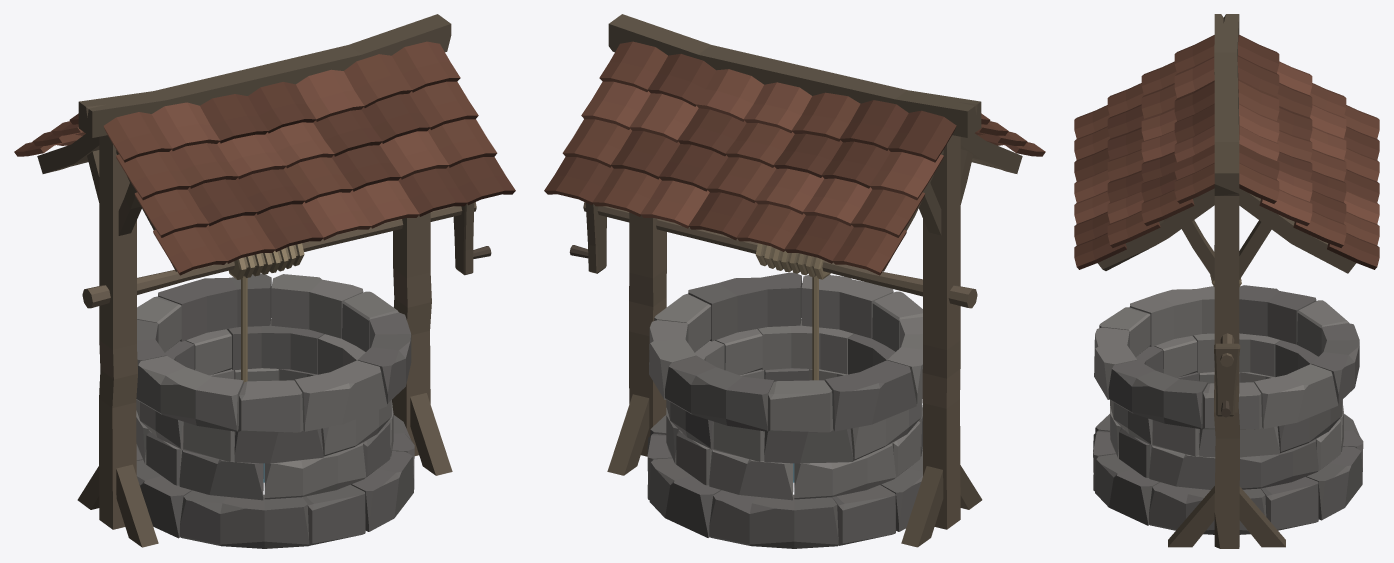
File: SM_Props_Farm_WaterWell.fbx
The picture shows the model from 3 angles, left to right: view 1: azimuth 30°, elevation 25°; view 2: azimuth 150°, elevation 25°; view 3: azimuth 270°, elevation 25°; orthographic projection. The views are drawn at different scales.
Visible parts, largest first — view 1: SM_Props_Farm_WaterWell, SM_Props_Farm_WaterWell_Handle; view 2: SM_Props_Farm_WaterWell, SM_Props_Farm_WaterWell_Handle; view 3: SM_Props_Farm_WaterWell, SM_Props_Farm_WaterWell_Handle.
Part boxes in pixels (left/top/right/bottom): SM_Props_Farm_WaterWell: left=14, top=14, right=515, bottom=548; SM_Props_Farm_WaterWell_Handle: left=82, top=202, right=491, bottom=308; SM_Props_Farm_WaterWell: left=544, top=14, right=1045, bottom=548; SM_Props_Farm_WaterWell_Handle: left=569, top=202, right=977, bottom=308; SM_Props_Farm_WaterWell: left=1074, top=14, right=1379, bottom=548; SM_Props_Farm_WaterWell_Handle: left=1214, top=333, right=1240, bottom=417.
Bounding box in the file's own units: 384 × 386 × 277.
